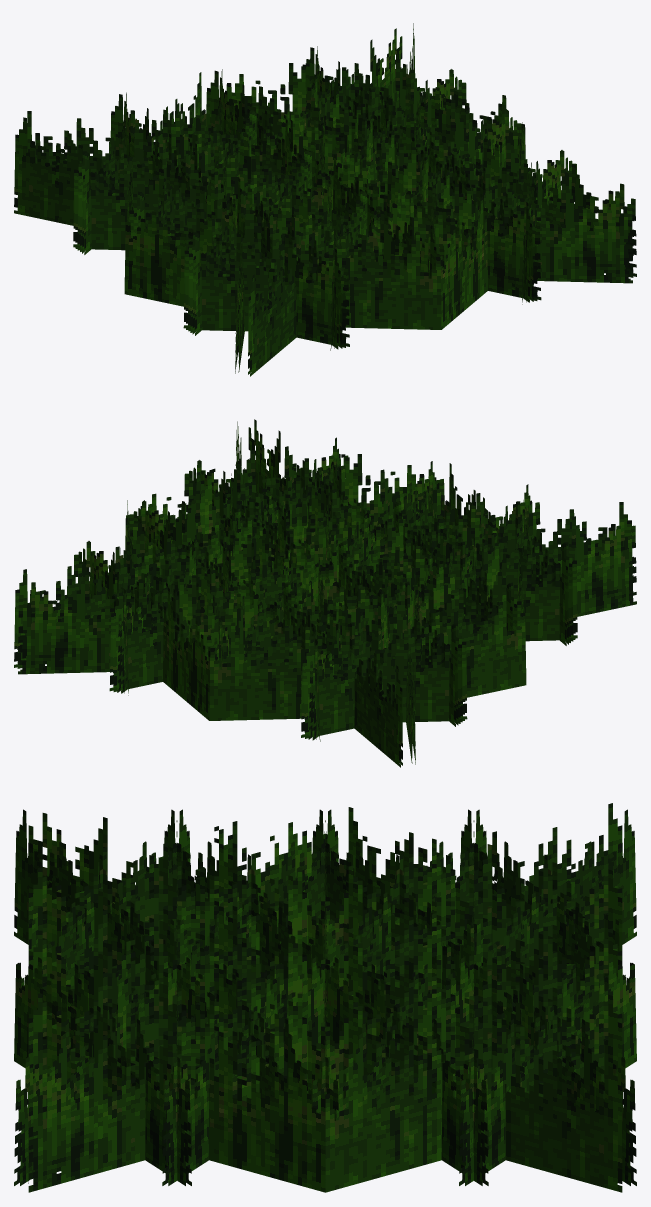
File: grass_patch_summer.glb
3 views of the same model, one above another, from view 1: azimuth 30°, elevation 25°; view 2: azimuth 150°, elevation 25°; view 3: azimuth 270°, elevation 25° (orthographic). The views are drawn at different scales.
Visible parts, largest first — view 1: grass_patch; view 2: grass_patch; view 3: grass_patch.
Part boxes in pixels (x1,y1,x2,y2): grass_patch: (14,23,636,376); grass_patch: (14,419,636,767); grass_patch: (14,803,636,1192).
Bounding box in the file's own units: 1.68 × 0.4 × 1.68.
1 material, 1 textured.
